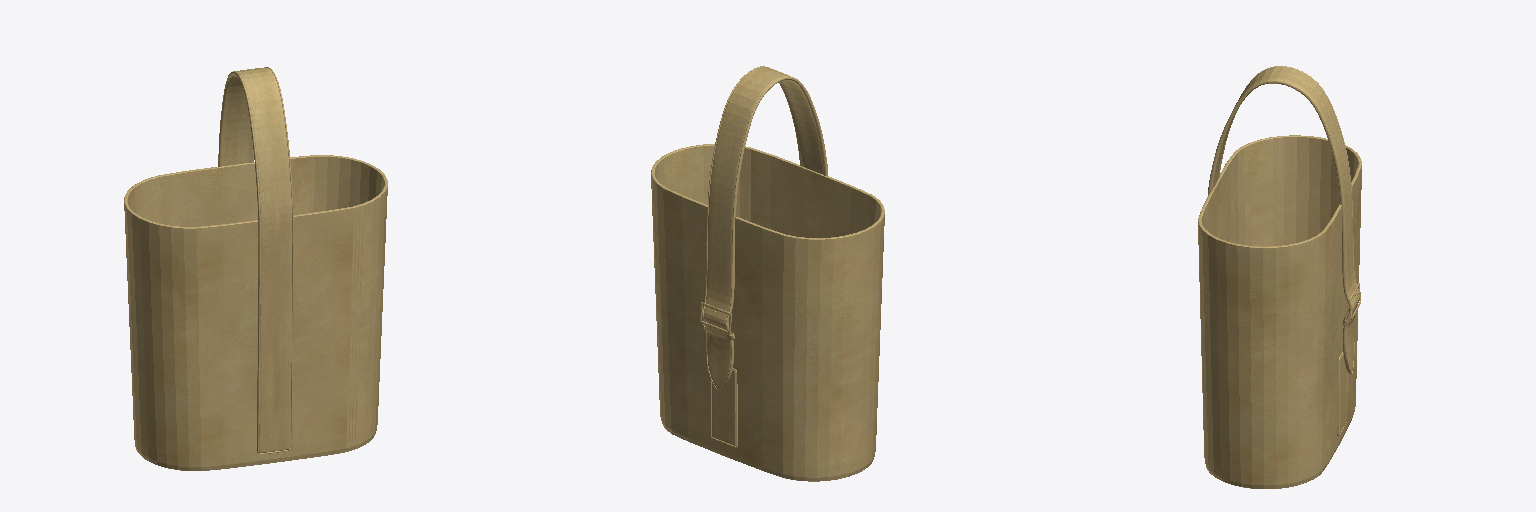
3 views of the same model, side by side, from view 1: azimuth 30°, elevation 25°; view 2: azimuth 150°, elevation 25°; view 3: azimuth 270°, elevation 25° (orthographic).
Size of the model in its own units: 599 by 906 by 368.
1 materials, 1 textured.